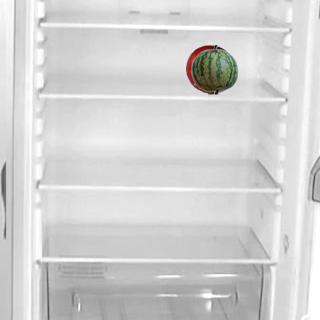Apple Braeburn: (185, 44, 235, 94)
Watermelon: (189, 44, 239, 94)
